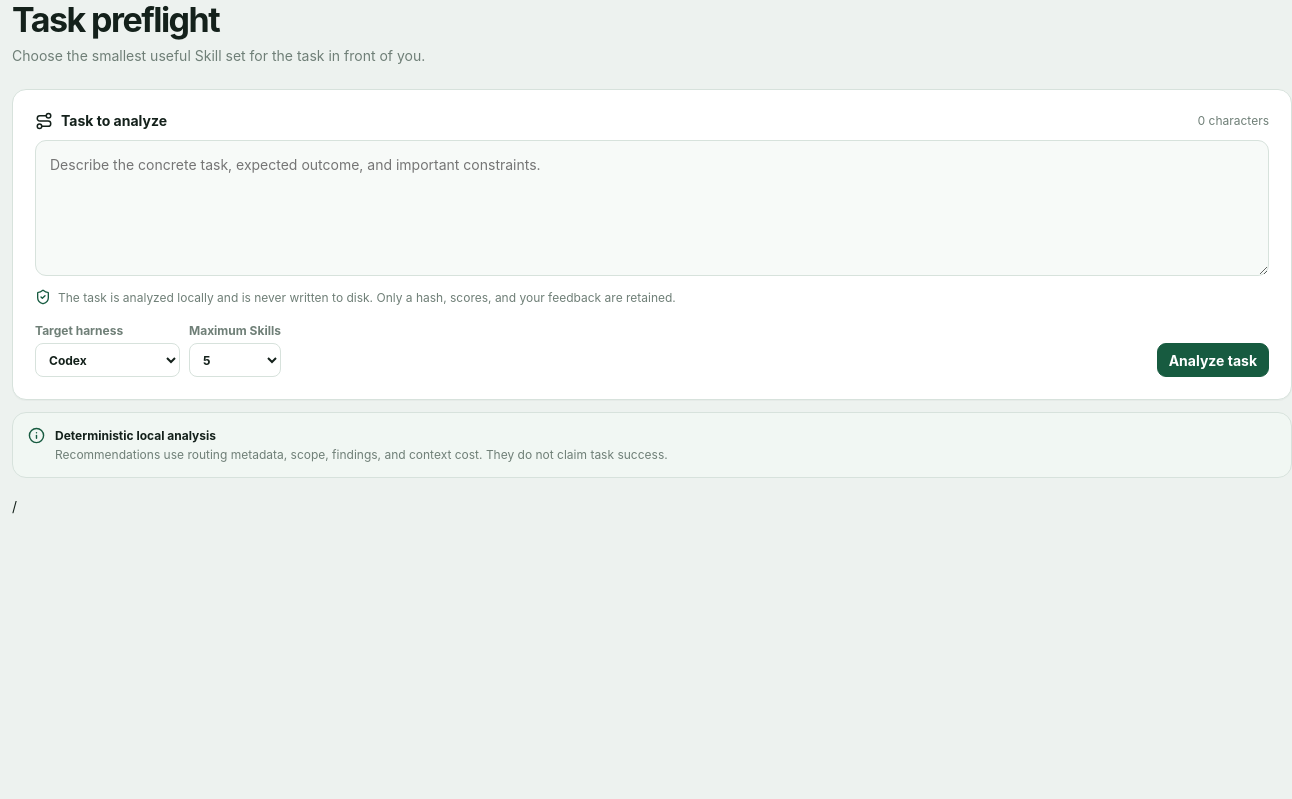
Test: PreflightPage v2 › carries the selected Codex target in a reload-safe installation URL
Select "Codex" in the dropdown labelled "Target harness" at (108, 360), box [35, 343, 180, 377]
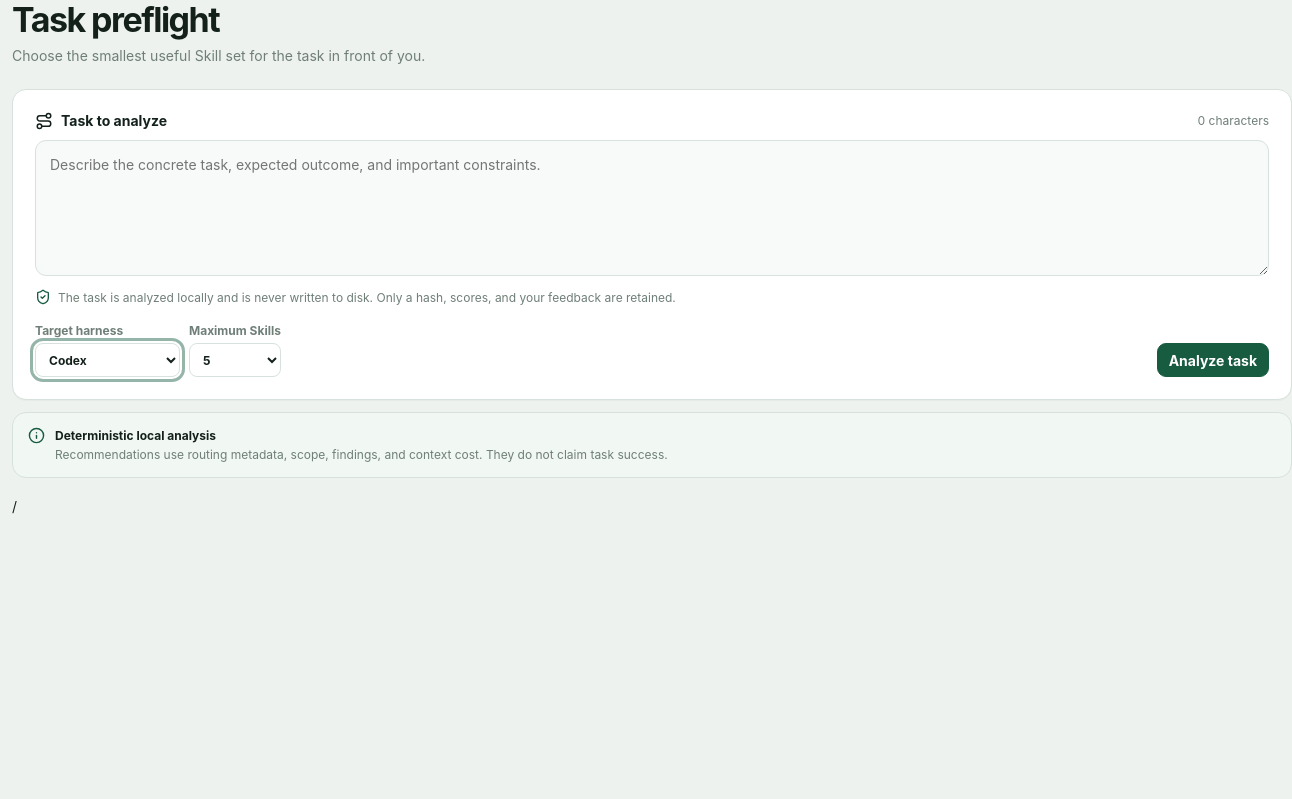
Type "Review security and missing tests" into the text box named "Task to analyze" at (652, 208), box [35, 140, 1269, 276]
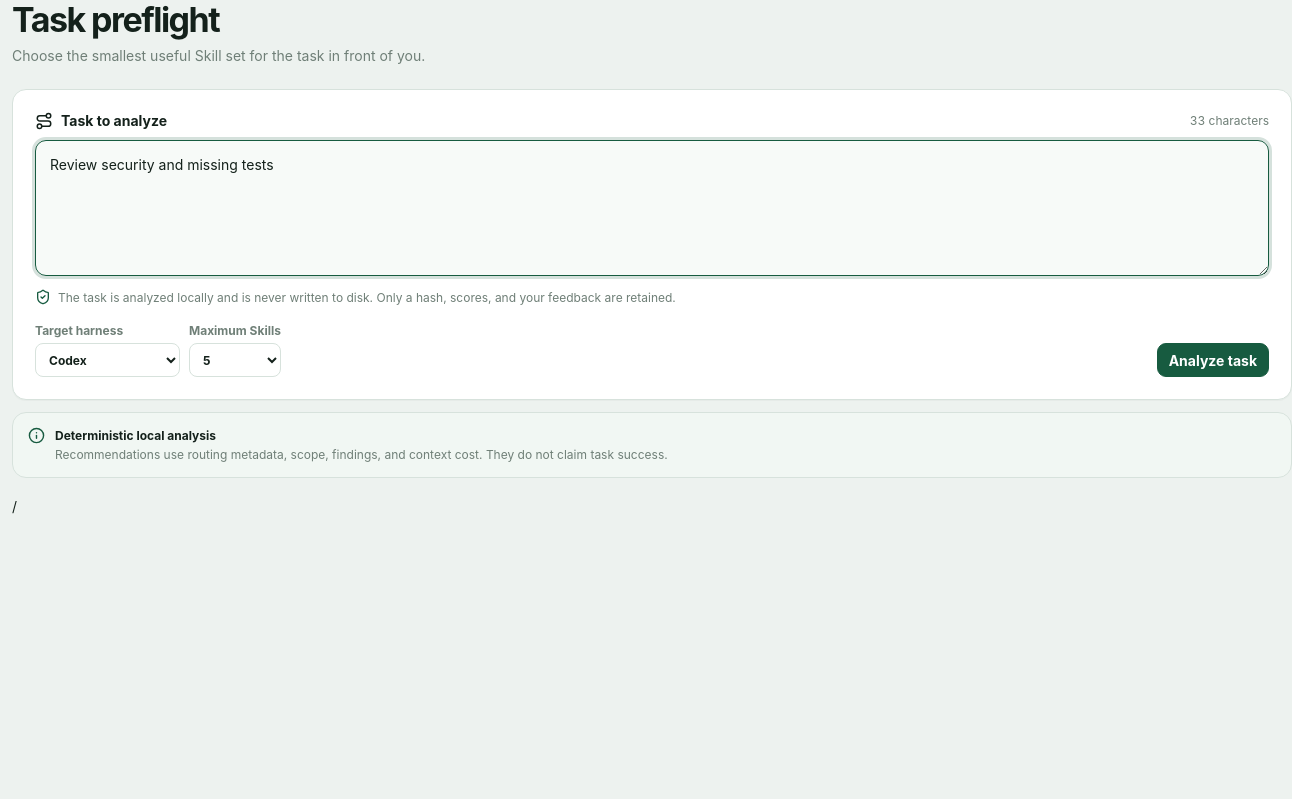
Click the button "Analyze task" at (1213, 360), box [1157, 343, 1269, 377]
(page scrolled)
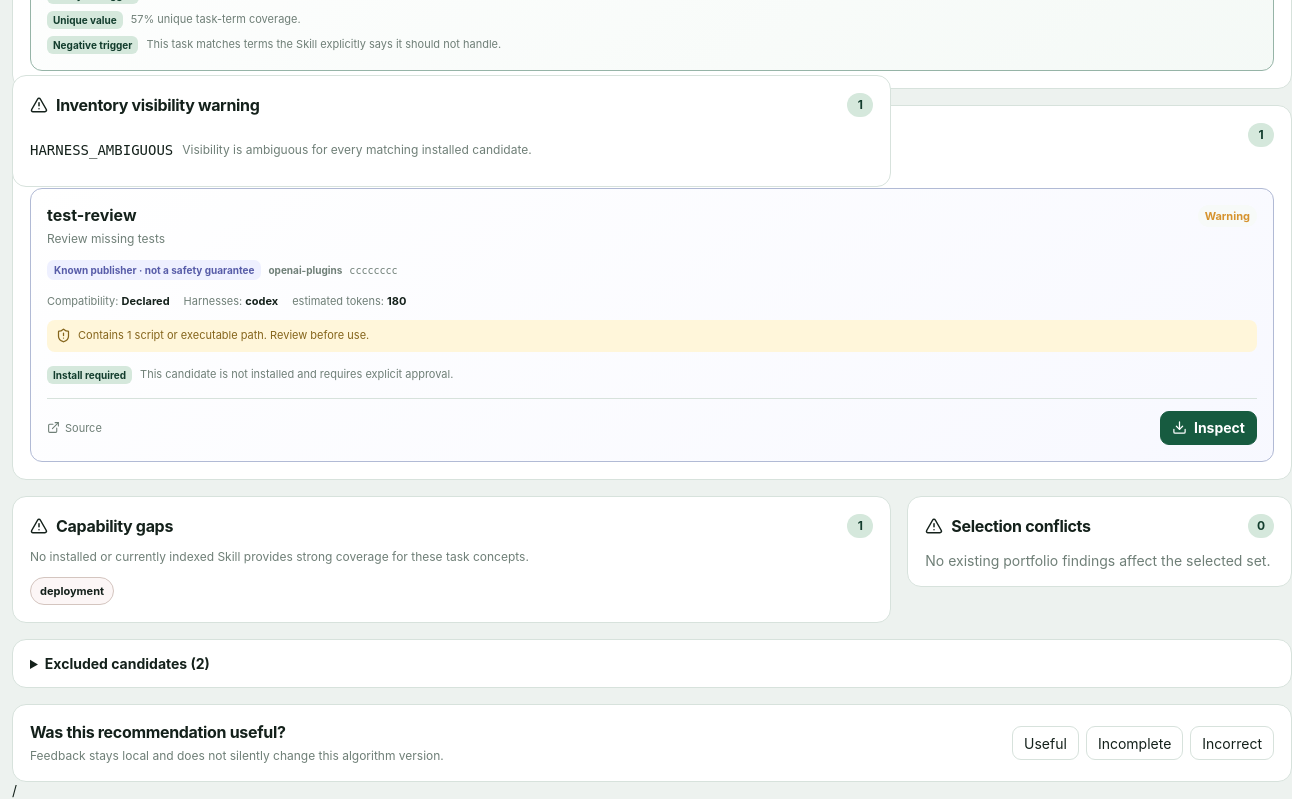
Click the button with aria-label "Inspect test-review" at (1208, 428), box [1160, 411, 1257, 445]
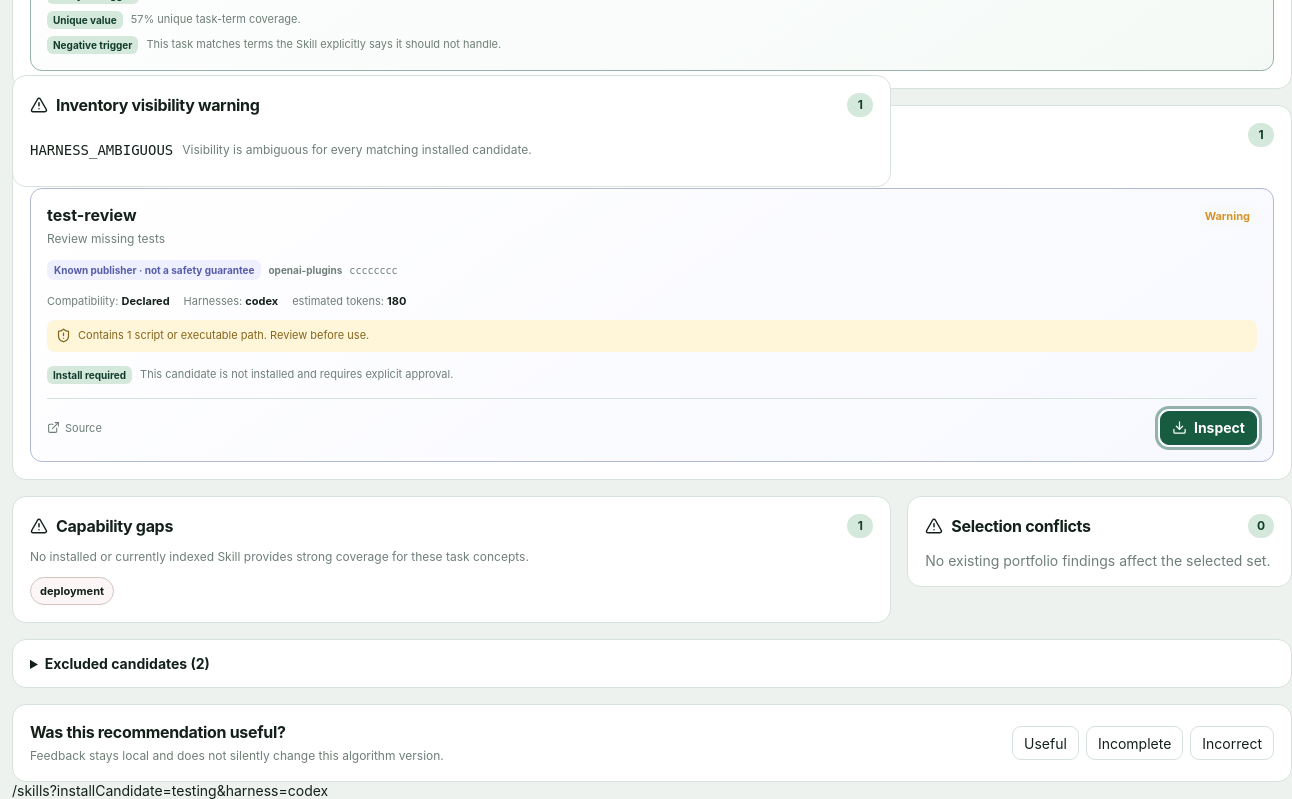
Result: the text with test id "location" reads "/skills?installCandidate=testing&harness=codex" at [12, 782, 328, 798]
